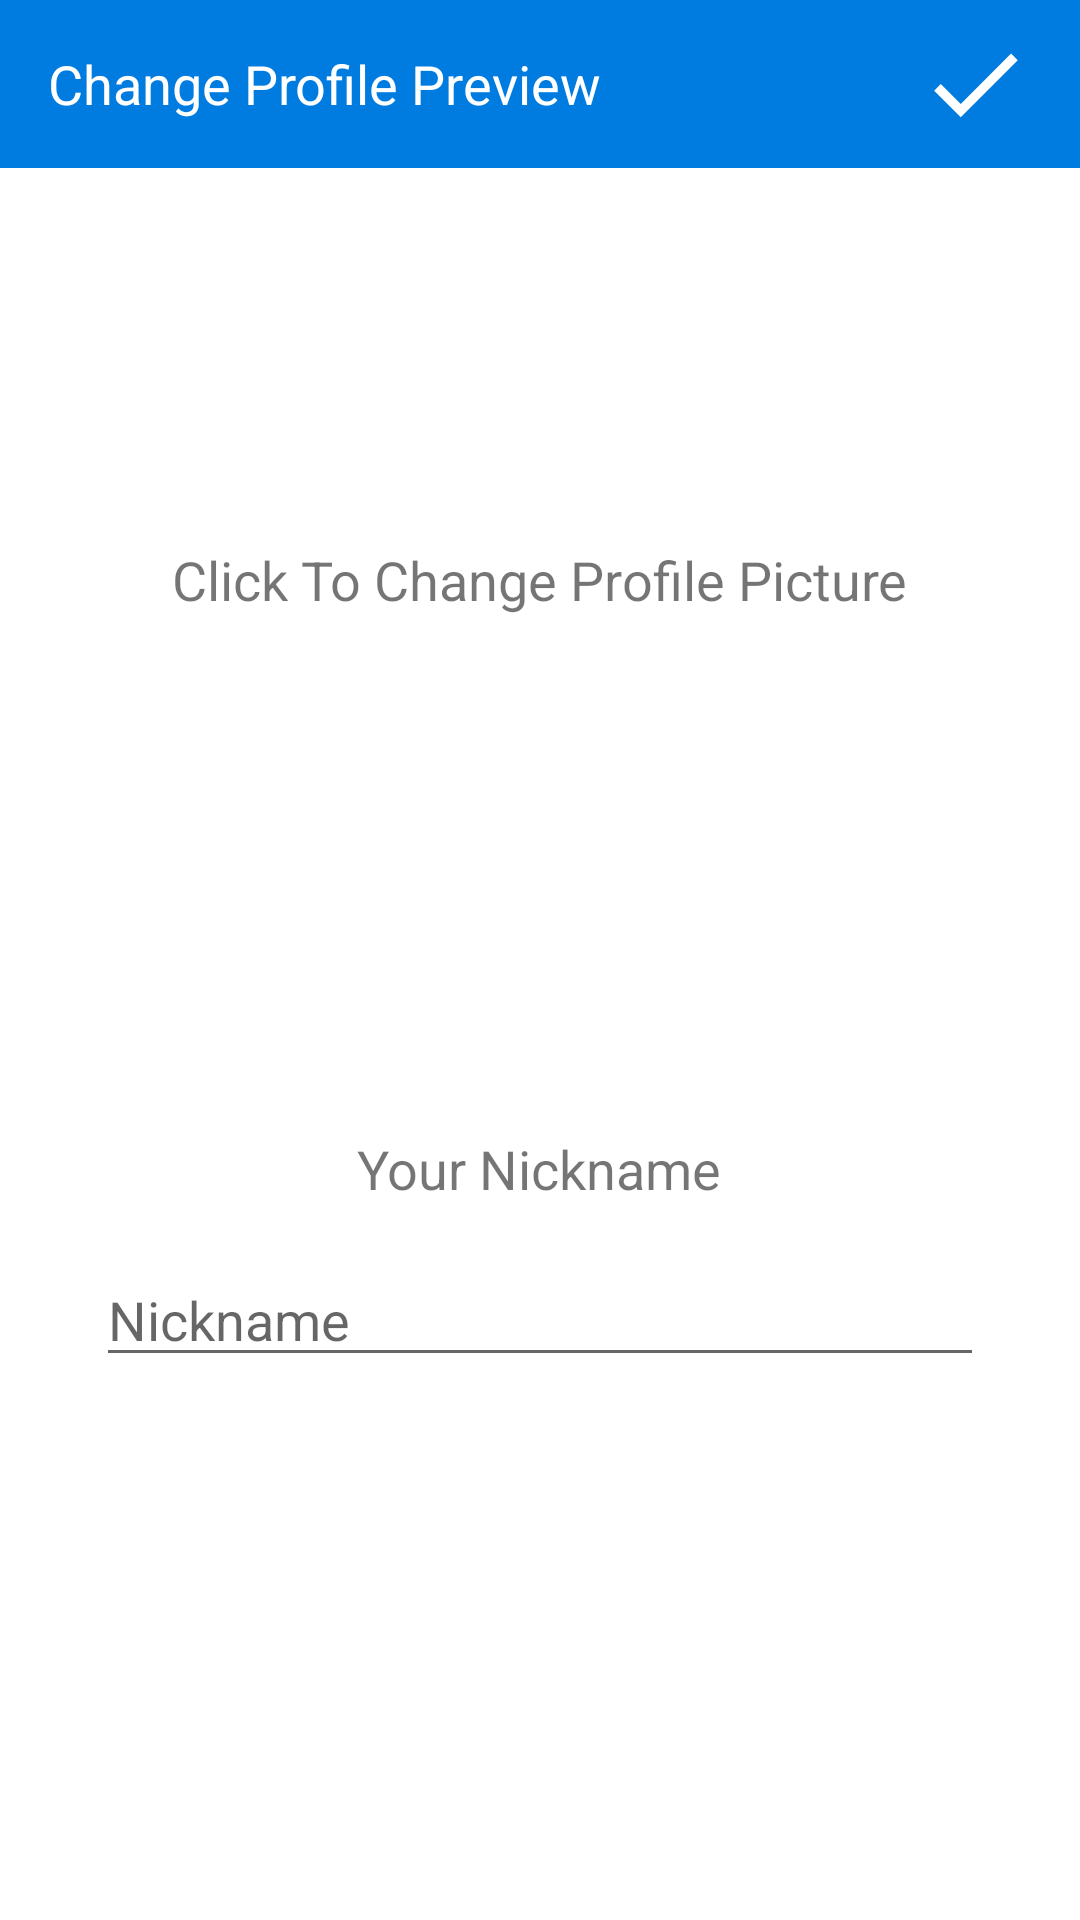

Named icons in this screenshot (1080 x 1920) and their bounding boxes, (x1, y1, x2, y2):
complete: (934, 53, 1018, 117)
